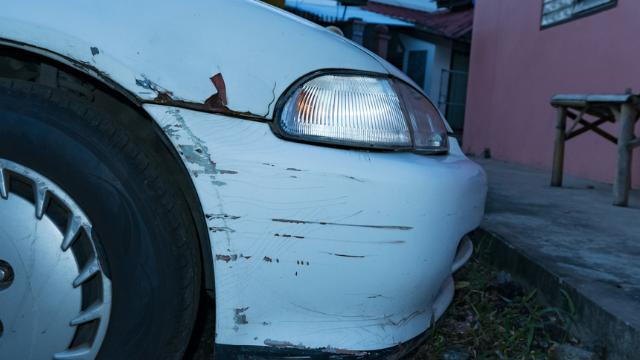Bumper: (151, 110, 419, 348)
Fender: (75, 31, 290, 117)
